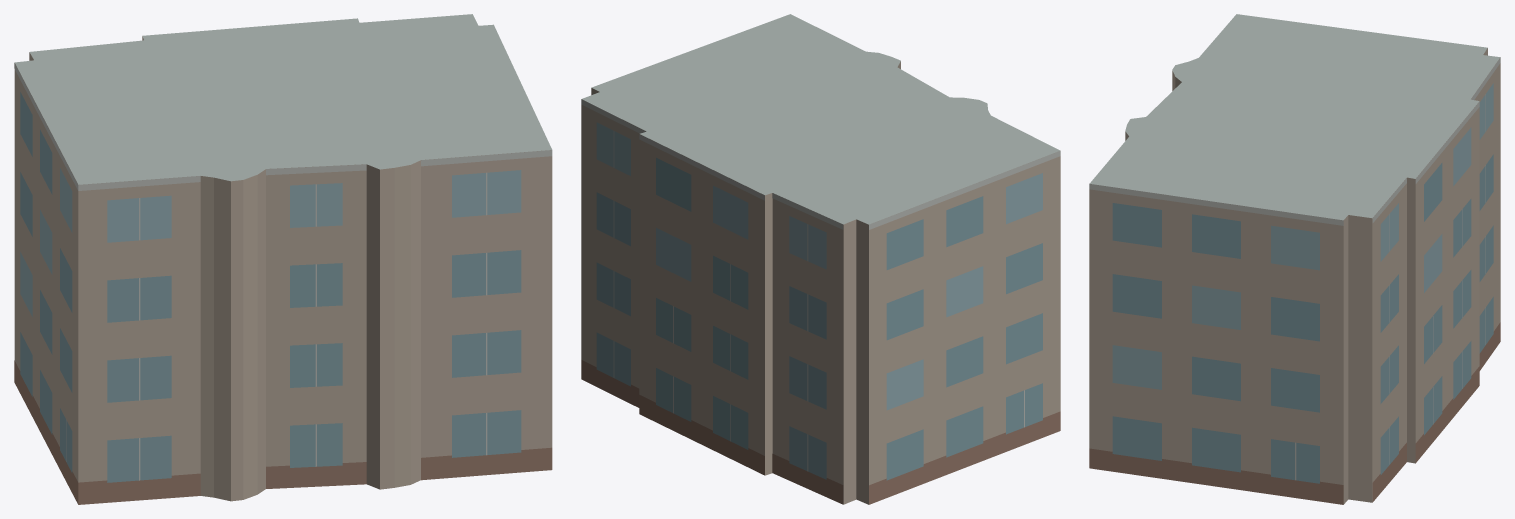
File: survey-upis-32887681.glb
3 views of the same model, side by side, from view 1: azimuth 30°, elevation 25°; view 2: azimuth 150°, elevation 25°; view 3: azimuth 270°, elevation 25° (orthographic). The views are drawn at different scales.
Parts seen in each view (by area): view 1: survey-upis-32887681.tmp; view 2: survey-upis-32887681.tmp; view 3: survey-upis-32887681.tmp.
Boxes of the visible parts, x1,y1,x2,y2 form: survey-upis-32887681.tmp: (14, 14, 552, 504); survey-upis-32887681.tmp: (581, 14, 1060, 504); survey-upis-32887681.tmp: (1089, 14, 1500, 504).
Size of the model in its own units: 19.37 by 12.45 by 16.31.
